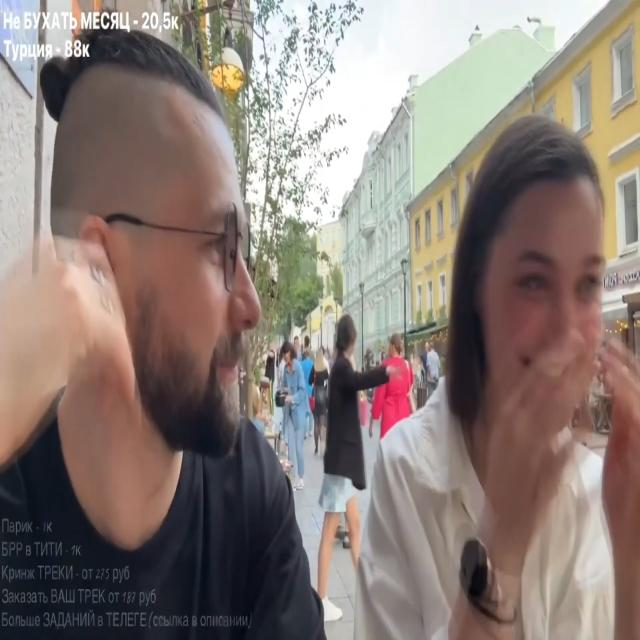Person: (0, 19, 292, 631), (356, 95, 640, 640), (315, 318, 399, 624), (272, 341, 314, 484), (368, 336, 416, 443), (423, 340, 442, 397)
